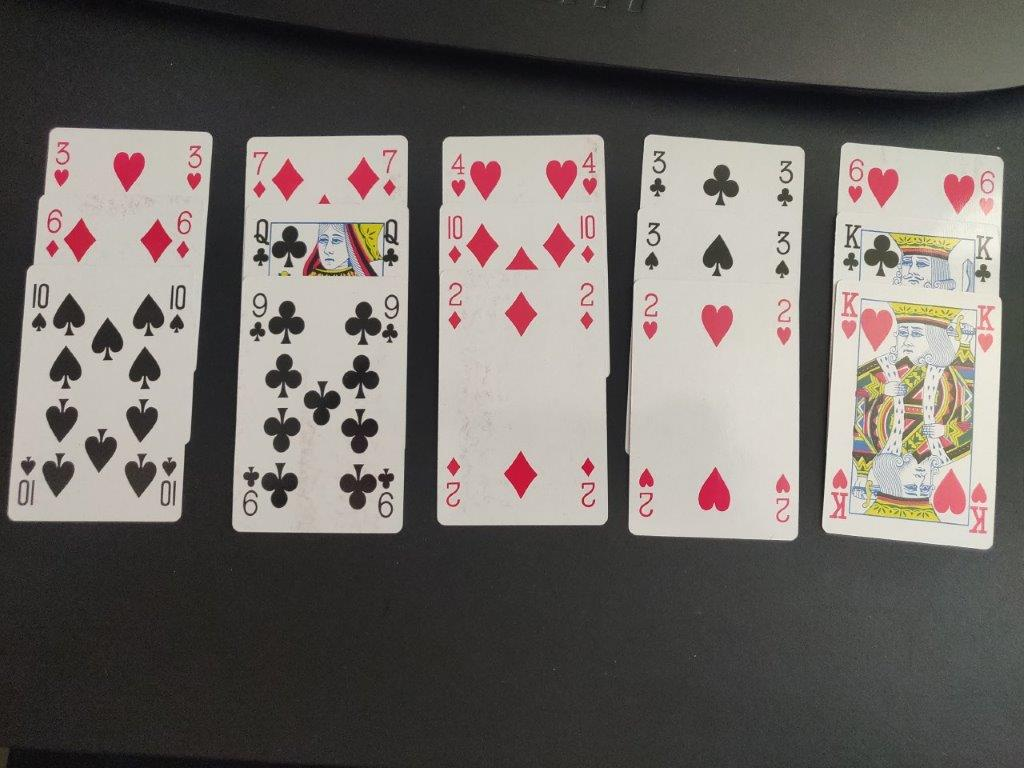10D: (442, 208, 466, 271), (574, 211, 600, 265)
10S: (165, 280, 190, 339), (28, 279, 53, 336)
2D: (575, 277, 600, 334), (441, 281, 467, 334)
2H: (769, 294, 797, 348), (637, 291, 664, 342)
3C: (645, 148, 671, 205), (772, 155, 797, 212)
3H: (49, 138, 77, 195), (183, 142, 205, 194)
3S: (766, 224, 794, 286), (639, 218, 664, 271)
4H: (579, 148, 601, 199), (448, 147, 467, 201)
6D: (172, 208, 196, 261), (43, 207, 64, 261)
6H: (841, 153, 873, 208), (973, 166, 1000, 221)
7D: (378, 141, 400, 203), (248, 149, 271, 202)
9C: (246, 290, 270, 347), (379, 291, 402, 348)
KC: (837, 220, 866, 276), (969, 231, 998, 287)
KH: (835, 287, 863, 345), (972, 297, 998, 356)
QC: (249, 217, 274, 272), (378, 213, 401, 271)
